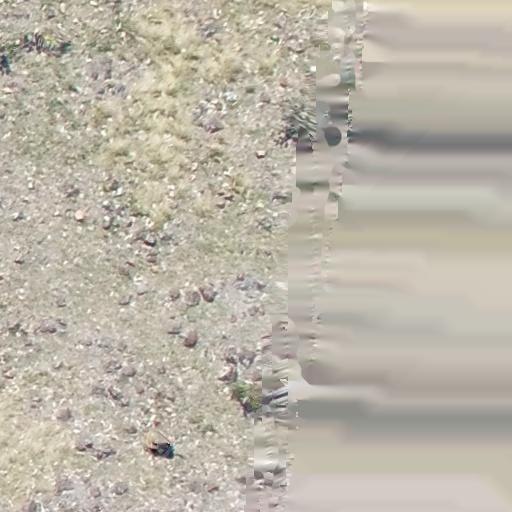stone: (34, 318, 64, 335), (181, 287, 204, 307), (235, 347, 257, 367), (106, 384, 126, 404), (199, 283, 218, 302), (216, 365, 236, 383), (55, 405, 73, 423), (182, 329, 198, 348), (269, 189, 289, 204), (74, 436, 92, 452), (119, 364, 137, 378), (6, 321, 22, 336), (133, 282, 148, 296), (166, 323, 183, 335), (144, 234, 158, 248), (258, 90, 272, 104), (117, 293, 133, 305), (250, 370, 264, 383), (102, 215, 114, 230), (2, 368, 17, 380), (134, 382, 146, 396), (168, 288, 181, 300), (123, 424, 138, 434), (278, 76, 290, 88), (74, 210, 85, 222), (255, 149, 267, 158), (13, 257, 26, 265), (216, 200, 225, 208), (236, 273, 244, 282), (224, 194, 234, 200), (102, 200, 110, 207), (53, 210, 62, 216), (217, 190, 225, 196), (33, 396, 40, 402), (28, 182, 35, 188)
